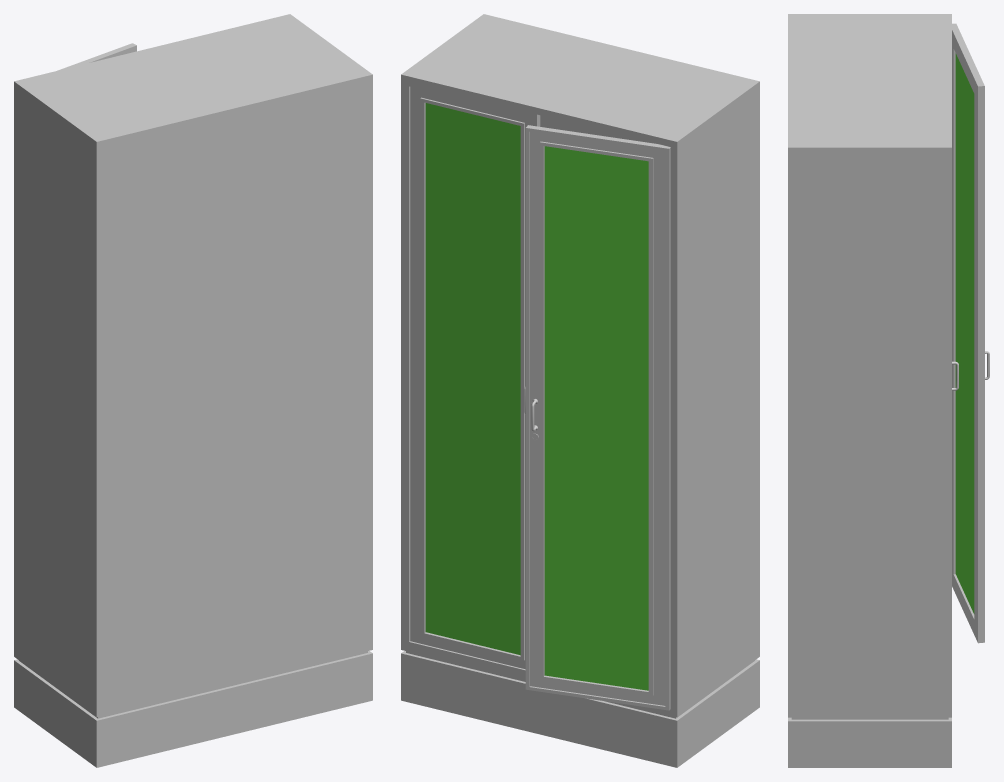
Rendered from Cupboard.fbx.
3 views of the same model, side by side, from view 1: azimuth 30°, elevation 25°; view 2: azimuth 150°, elevation 25°; view 3: azimuth 270°, elevation 25° (orthographic).
Parts seen in each view (by area): view 1: Cupboard; view 2: Cupboard, Cupboard.002, Cupboard.001; view 3: Cupboard, Cupboard.002.
Boxes of the visible parts, x1=… form: Cupboard: x1=14, y1=14, x2=372, y2=767; Cupboard: x1=401, y1=14, x2=759, y2=767; Cupboard.002: x1=525, y1=125, x2=670, y2=710; Cupboard.001: x1=405, y1=83, x2=540, y2=673; Cupboard: x1=788, y1=14, x2=951, y2=767; Cupboard.002: x1=952, y1=23, x2=989, y2=643.
Size of the model in its own units: 1.14 by 2.47 by 0.7286.
